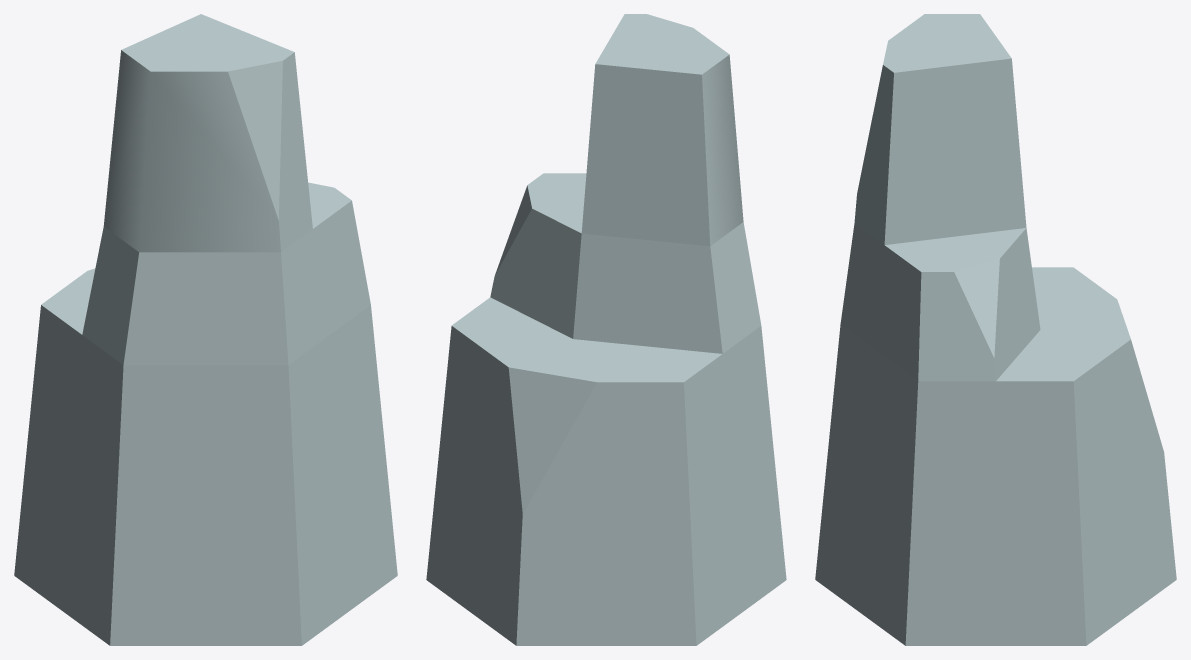
The model's file is stone_tallG.glb.
3 renders of one model, left to right at view 1: azimuth 30°, elevation 25°; view 2: azimuth 150°, elevation 25°; view 3: azimuth 270°, elevation 25°, orthographic. The views are drawn at different scales.
Visible parts, largest first — view 1: stone_tallG; view 2: stone_tallG; view 3: stone_tallG.
Boxes of the visible parts, x1,y1,x2,y2 form: stone_tallG: [14, 14, 397, 645]; stone_tallG: [426, 14, 786, 645]; stone_tallG: [815, 14, 1176, 645].
Size of the model in its own units: 0.4249 by 0.7829 by 0.4907.
